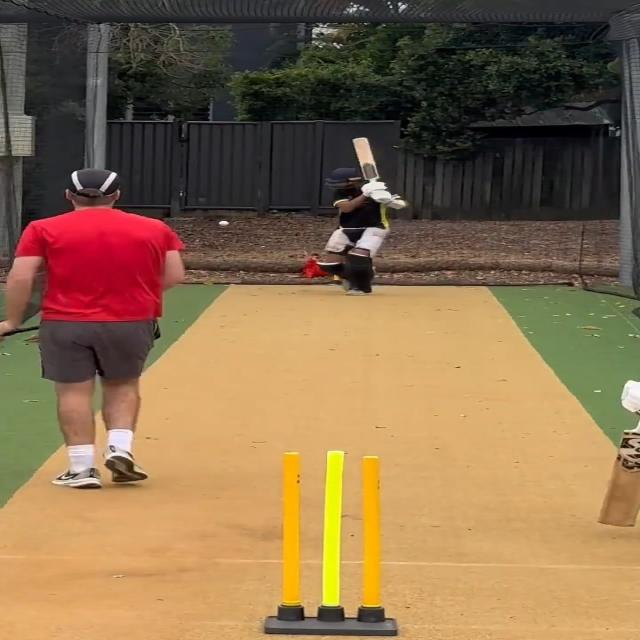ball: (218, 220, 230, 227)
stump: (257, 448, 400, 637)
